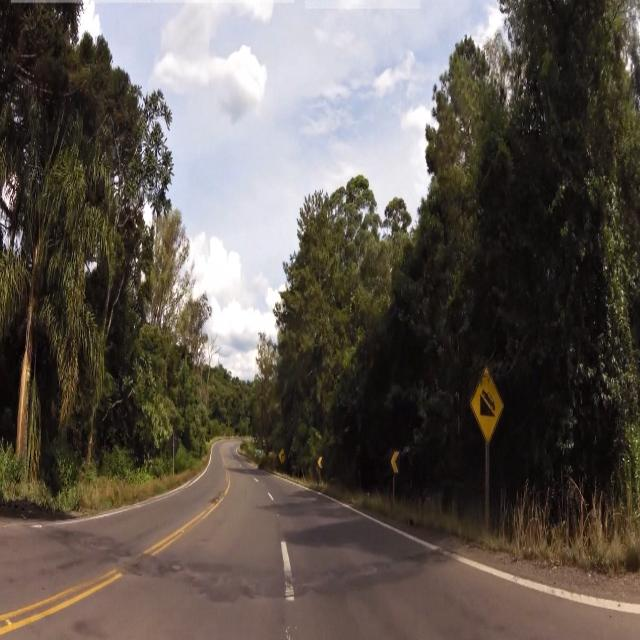A-20b: (474, 364, 501, 438)
Del: (388, 444, 400, 478), (317, 451, 323, 470)
